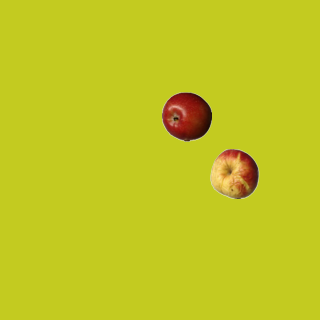Apple Braeburn: (161, 91, 211, 141)
Apple Red Yellow 1: (209, 148, 259, 198)
